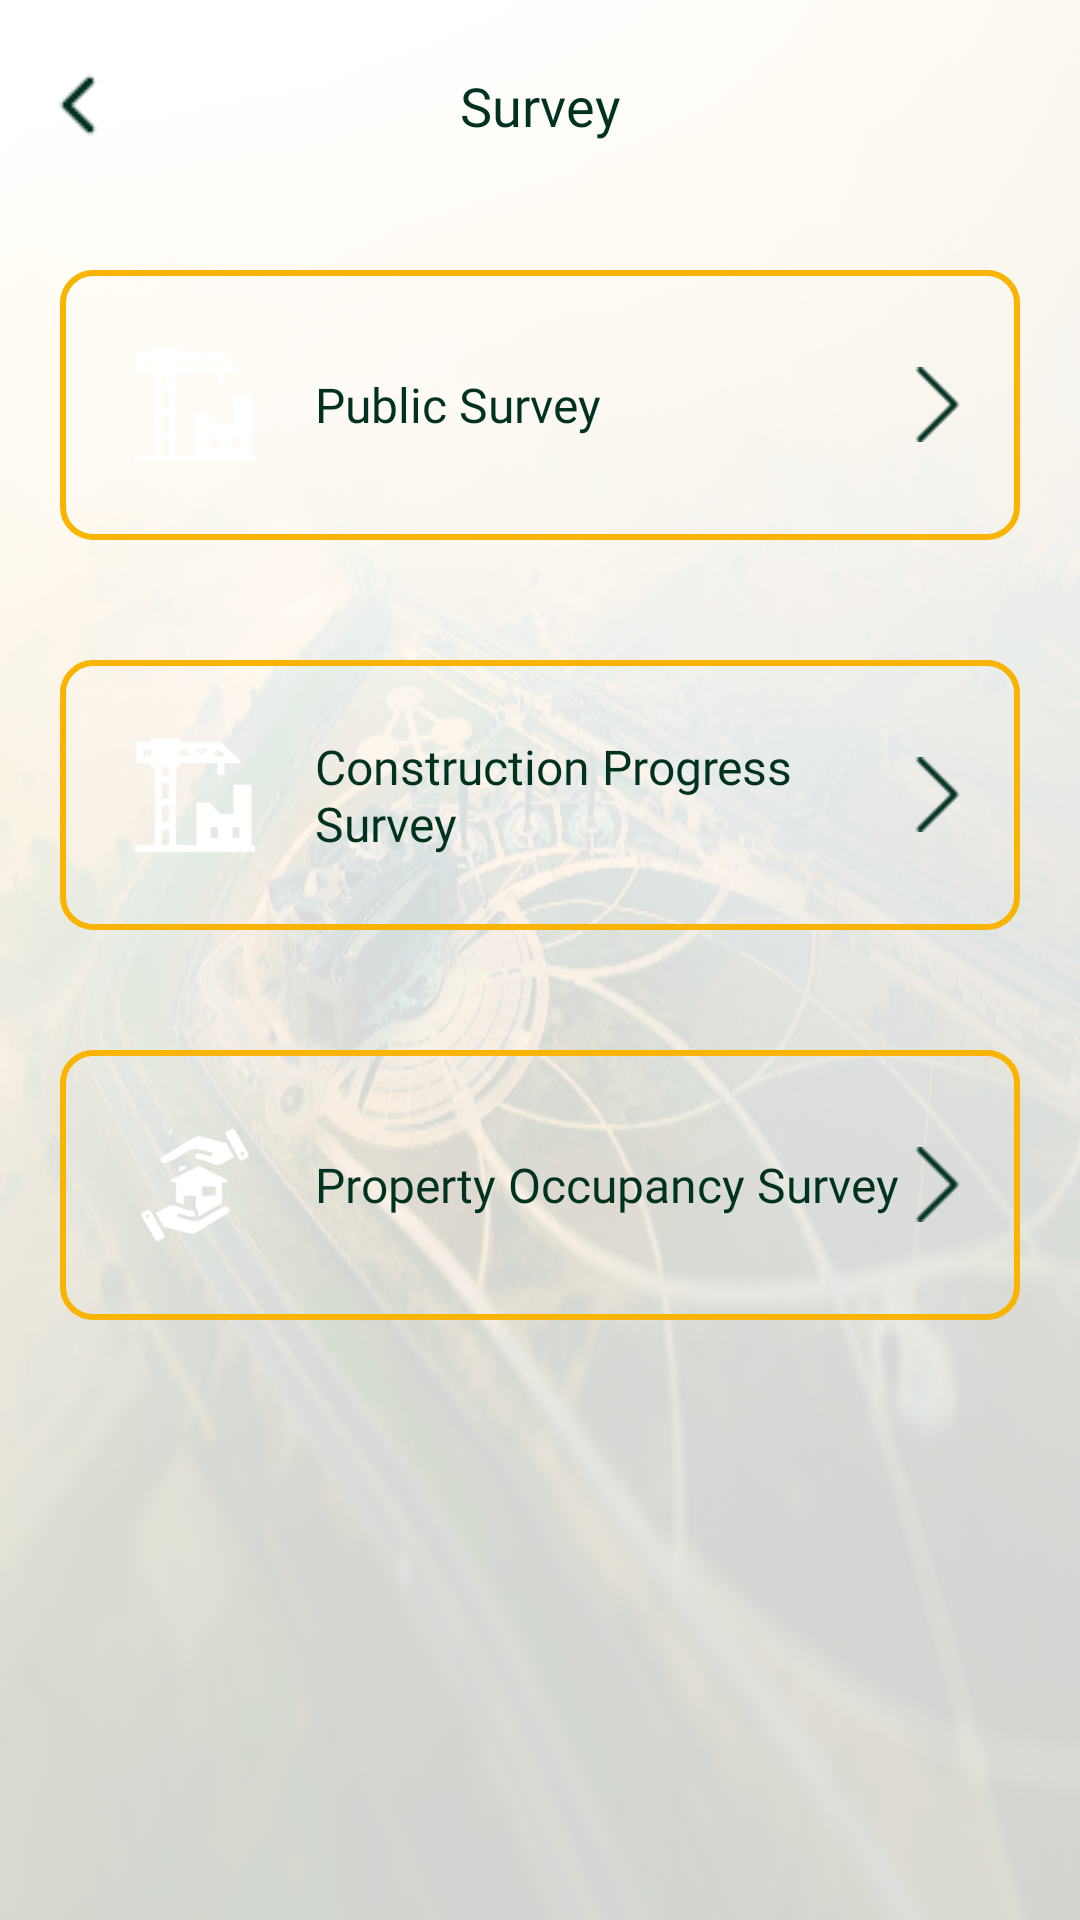

Screen size 1080 × 1920. Icon name, then its box in pixels as bbox=(x1, y1, x2, y2):
arrow: bbox=(916, 367, 959, 442), bbox=(916, 757, 959, 832), bbox=(916, 1147, 959, 1222)
left: bbox=(60, 75, 96, 135)
real estate: bbox=(142, 1129, 248, 1241)
